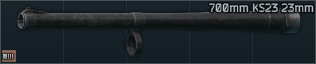KS-23 23x75 700mm barrel: (0, 0, 316, 64)
